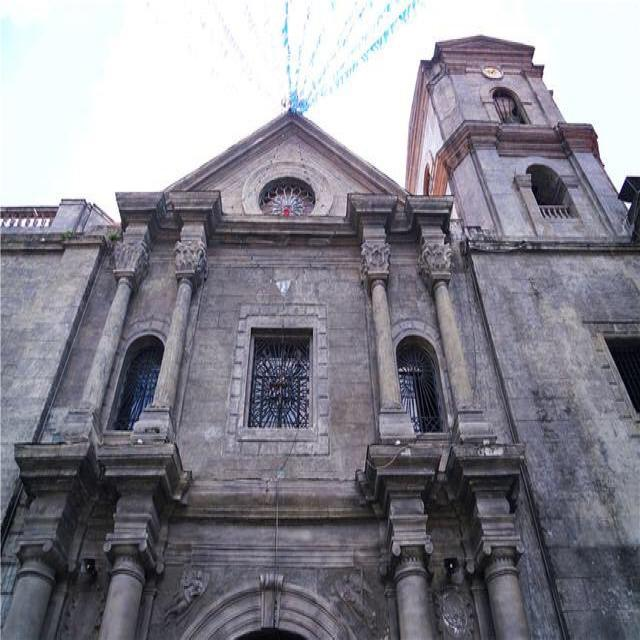San Agustin Church: (6, 22, 638, 640)
